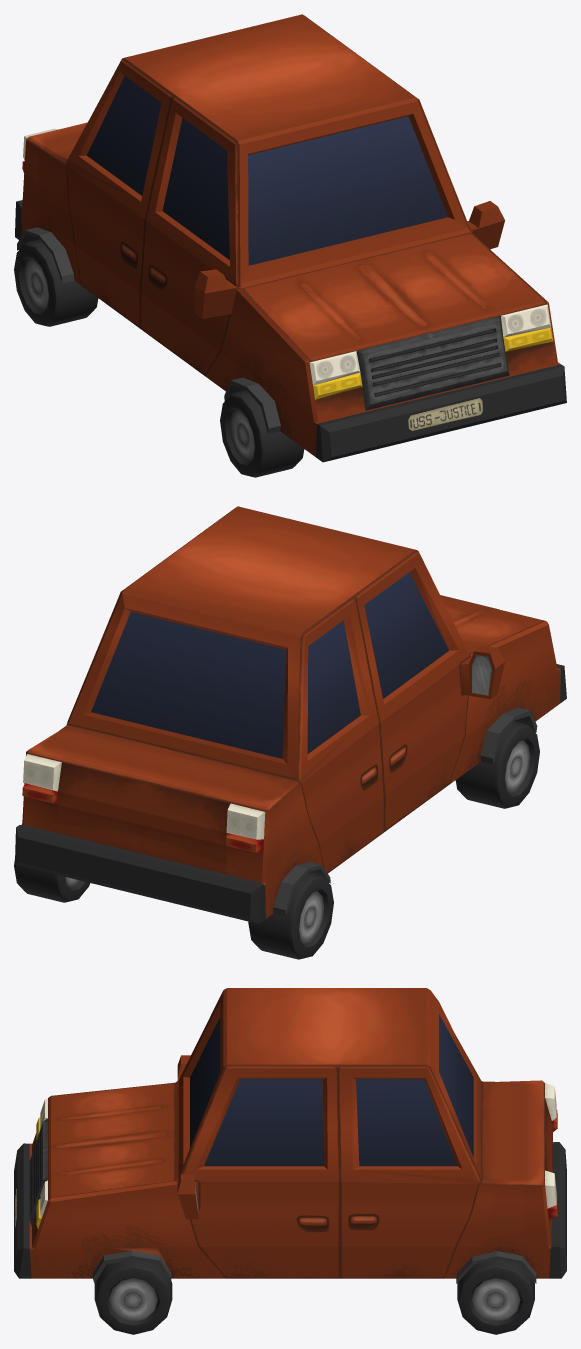
3 views of the same model, one above another, from view 1: azimuth 30°, elevation 25°; view 2: azimuth 150°, elevation 25°; view 3: azimuth 270°, elevation 25° (orthographic). The views are drawn at different scales.
Parts seen in each view (by area): view 1: env_prop_car_01, env_prop_tire_03, env_prop_tire_04; view 2: env_prop_car_01, env_prop_tire_04, env_prop_tire_03, env_prop_tire_02; view 3: env_prop_car_01, env_prop_tire_01, env_prop_tire_02.
Boxes of the visible parts, box(x1,y1,x2,y2) form: env_prop_car_01: box(15, 14, 566, 462); env_prop_tire_03: box(220, 390, 304, 477); env_prop_tire_04: box(14, 239, 98, 326); env_prop_car_01: box(15, 506, 566, 923); env_prop_tire_04: box(248, 872, 333, 959); env_prop_tire_03: box(455, 721, 539, 808); env_prop_tire_02: box(14, 860, 90, 902); env_prop_car_01: box(14, 988, 566, 1283); env_prop_tire_01: box(94, 1259, 172, 1334); env_prop_tire_02: box(457, 1259, 534, 1334).
Size of the model in its own units: 0.6157 by 0.5563 by 1.11.
1 material, 1 textured.
